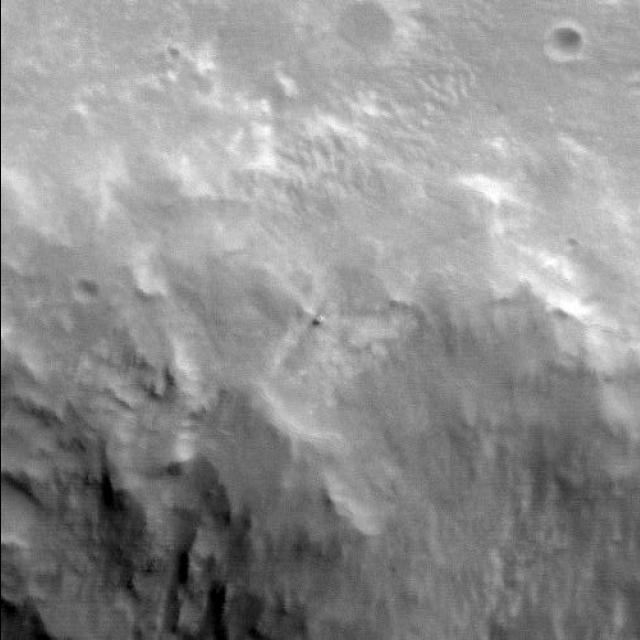crater: (320, 0, 407, 68), (0, 450, 53, 560), (534, 16, 598, 70), (66, 270, 106, 320), (449, 0, 492, 22), (382, 0, 424, 20), (529, 0, 563, 19), (46, 0, 82, 15), (554, 237, 582, 256), (361, 0, 395, 15), (627, 357, 640, 387), (484, 0, 499, 12)
